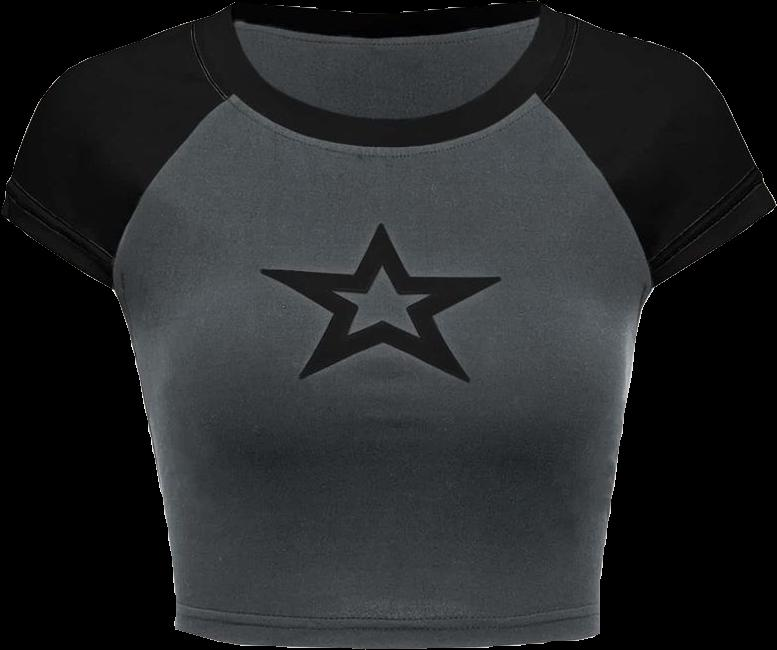Bodice: (110, 0, 650, 648)
Neckline: (193, 16, 585, 154), (230, 0, 545, 124)
Sleeve: (542, 17, 775, 286), (2, 19, 227, 287)
Sleeveline: (105, 93, 232, 285), (540, 100, 657, 289)
Waistline: (172, 620, 604, 649)
